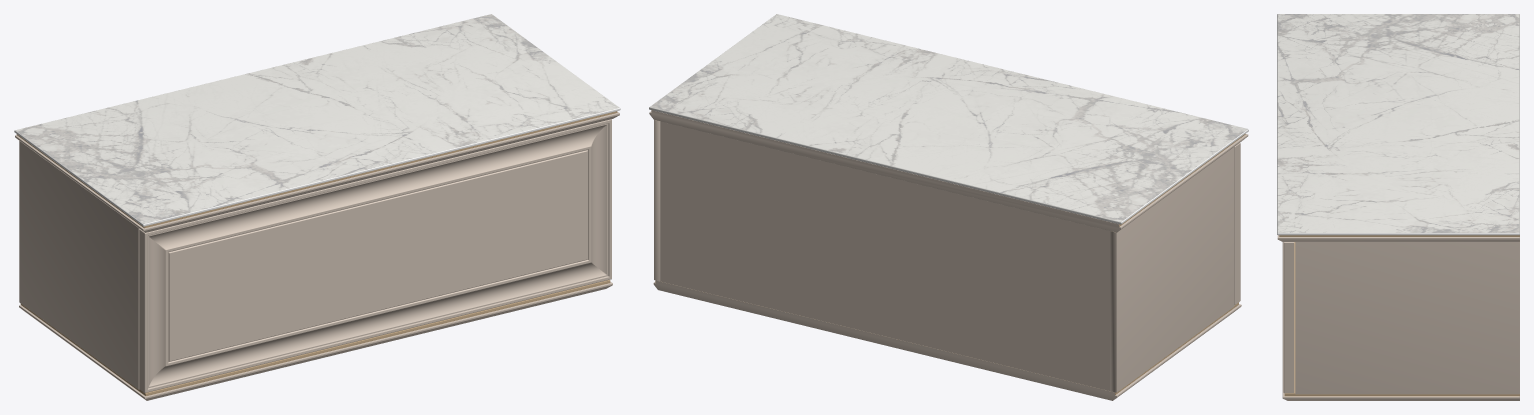
The picture shows the model from 3 angles, left to right: view 1: azimuth 30°, elevation 25°; view 2: azimuth 150°, elevation 25°; view 3: azimuth 270°, elevation 25°; orthographic projection. The views are drawn at different scales.
Visible parts, largest first — view 1: BL01.009, BL01.008; view 2: BL01.009, BL01.008; view 3: BL01.009, BL01.008.
Part boxes in pixels (left/top/right/bottom): BL01.009: left=14, top=14, right=620, bottom=400; BL01.008: left=139, top=119, right=611, bottom=392; BL01.009: left=649, top=14, right=1248, bottom=400; BL01.008: left=1234, top=143, right=1240, bottom=304; BL01.009: left=1277, top=14, right=1519, bottom=400; BL01.008: left=1283, top=242, right=1294, bottom=393.
Bounding box in the file's own units: 1.2 × 0.438 × 0.56.
4 materials, 2 textured.
